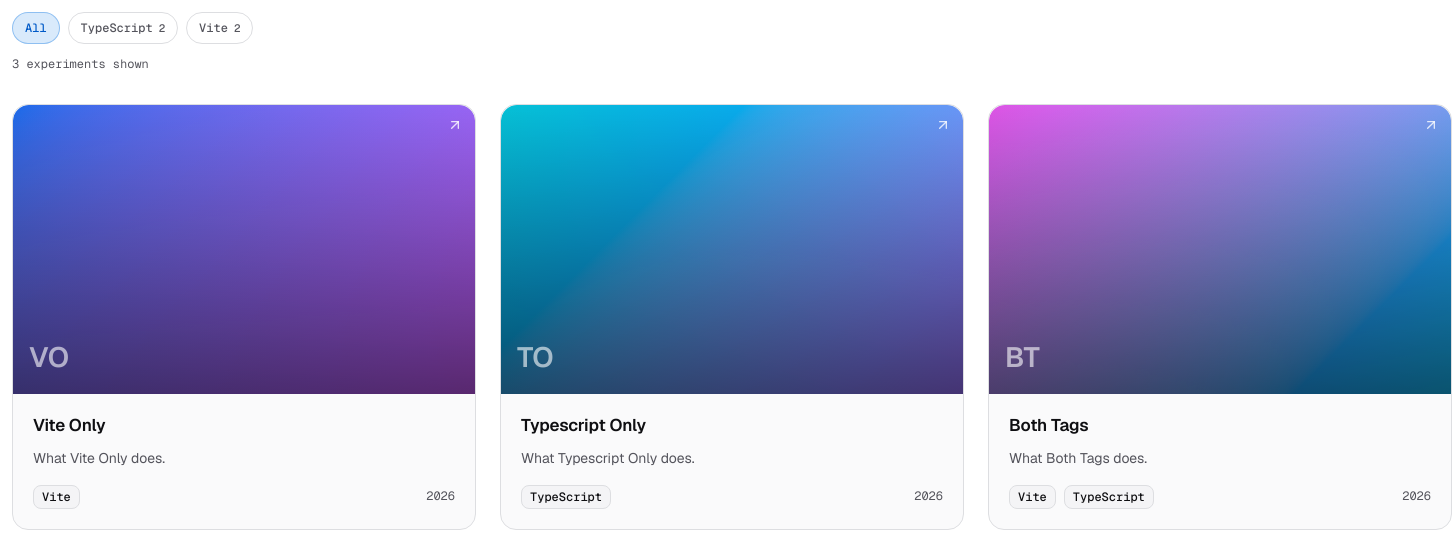
Test: ExperimentsGallery › filters to one tag and syncs it to ?tag=
This screenshot has width=1452, height=547.
Click the button with aria-label "Vite (2)".
click(220, 28)  # box [186,12,253,44]
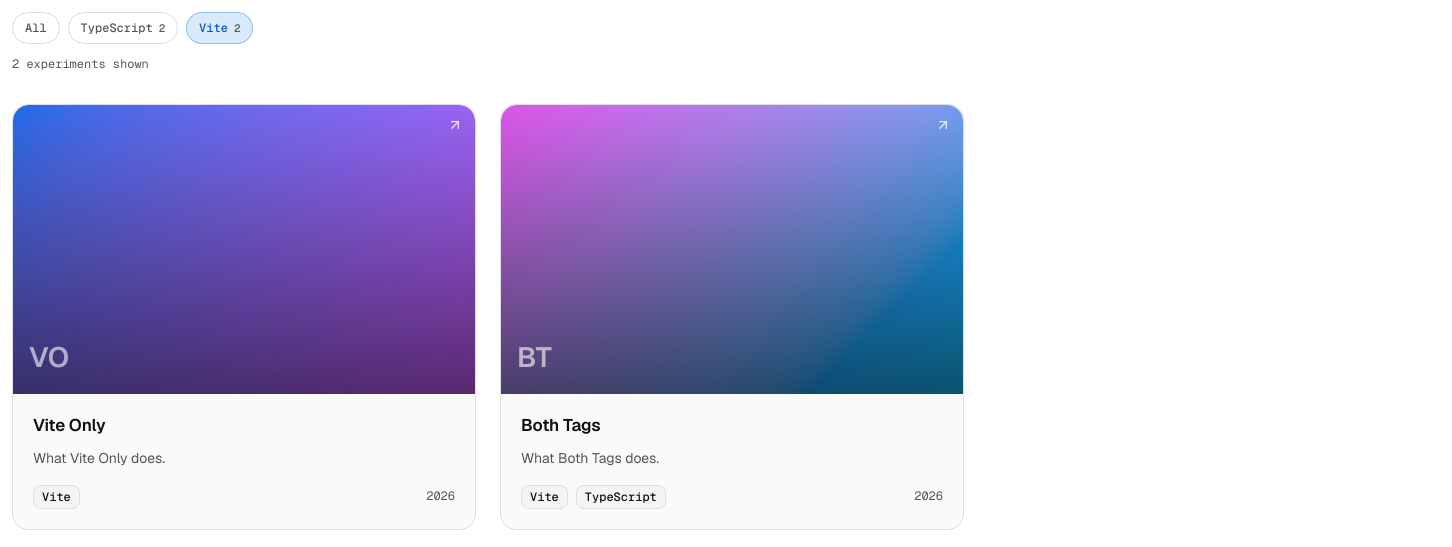
Expected: the text "2 experiments shown" is shown, [12,56,149,72]
